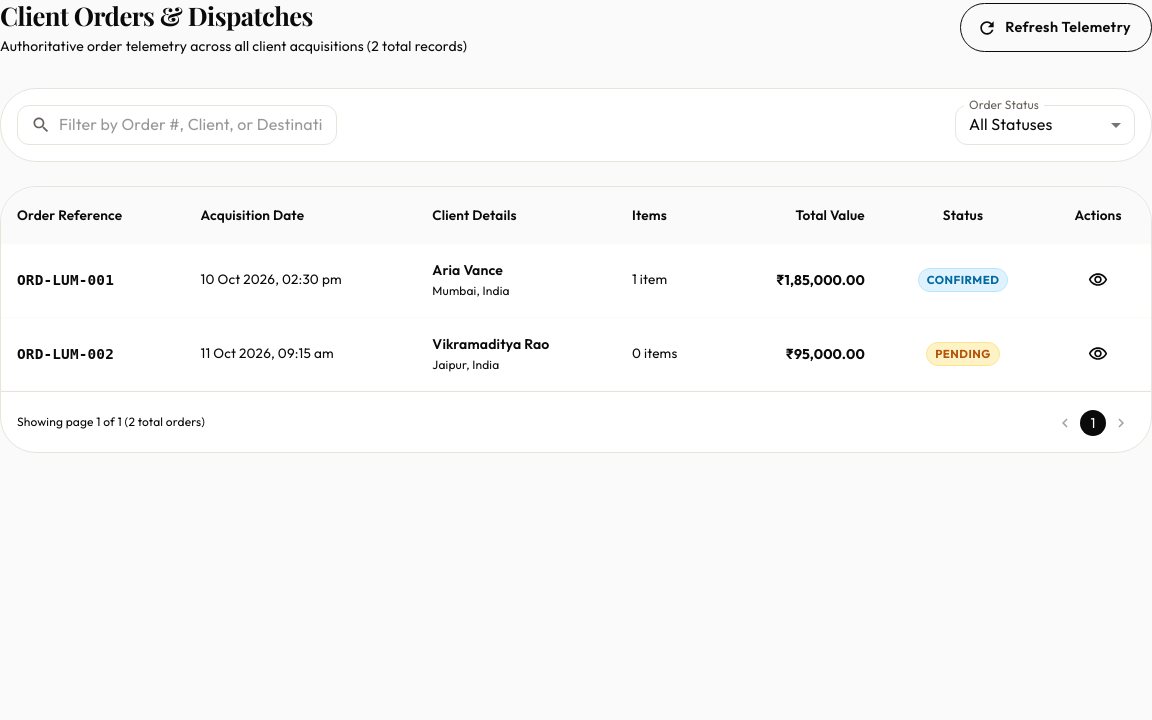
it: Stage 7B.3: Admin Data Integrity, Referral Safeguards & Route Privacy › Admin Route Authorization & Order Privacy › does not leak internal JWT tokens or sensitive credentials in order dossier
The image size is (1152, 720).
expect the text "ORD-LUM-001" is shown: met, box [1,244,185,318]
Click the button named "inspect order": [1098, 280] box [1083,265,1113,295]
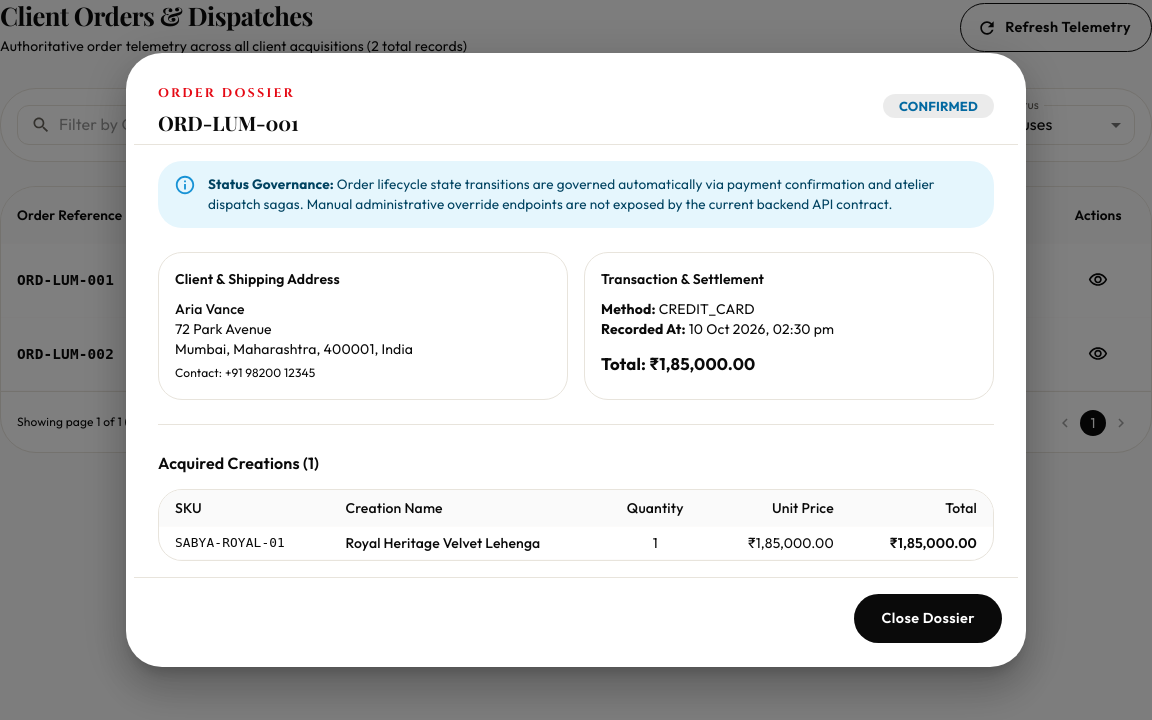
expect the text "ORDER DOSSIER" is shown: met, box [158,84,295,102]
